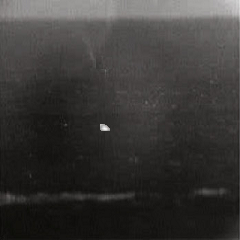Target: (99, 123, 111, 132)
